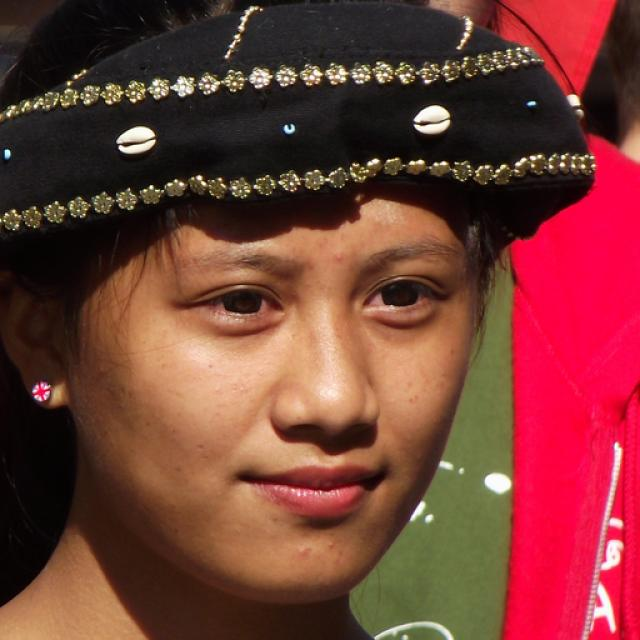Acne: (328, 248, 347, 270)
